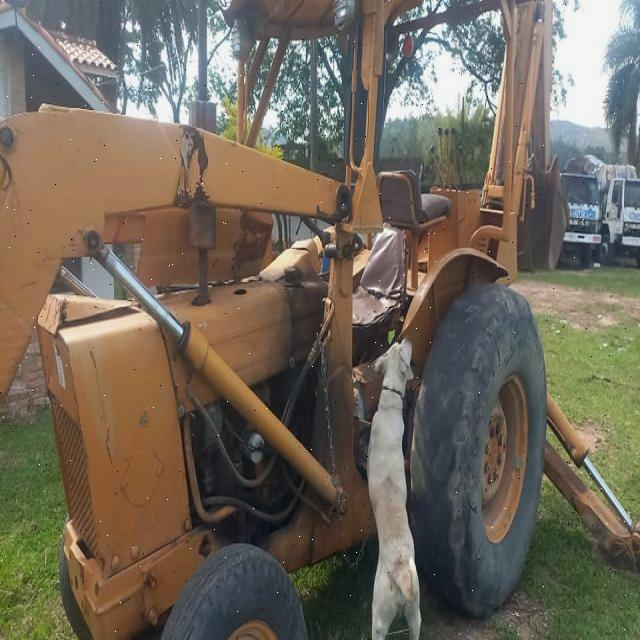Tratores - v5 YOLO V8L 2024-11-13: (38, 0, 542, 640)
